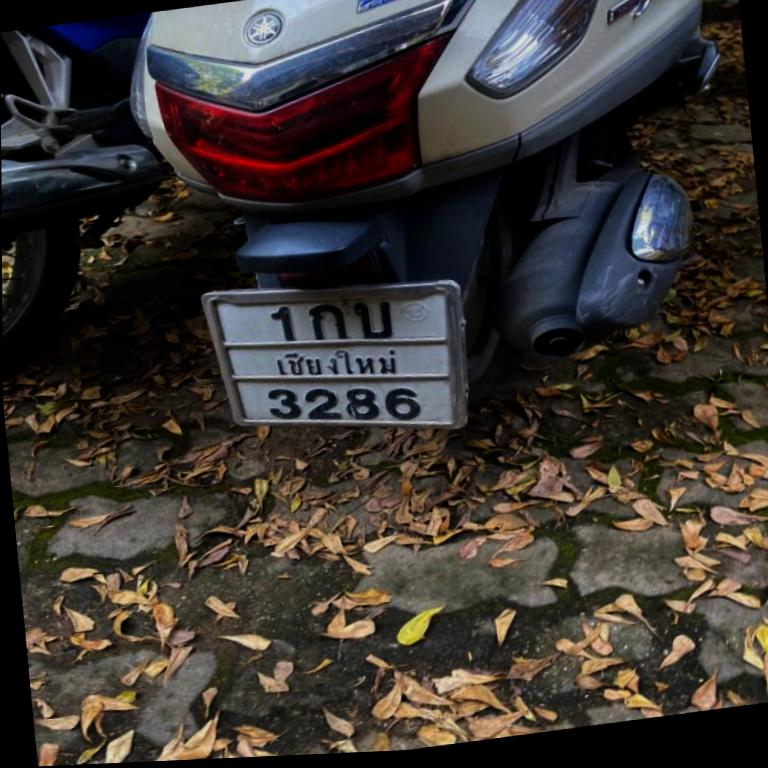license plate: (203, 282, 466, 428)
